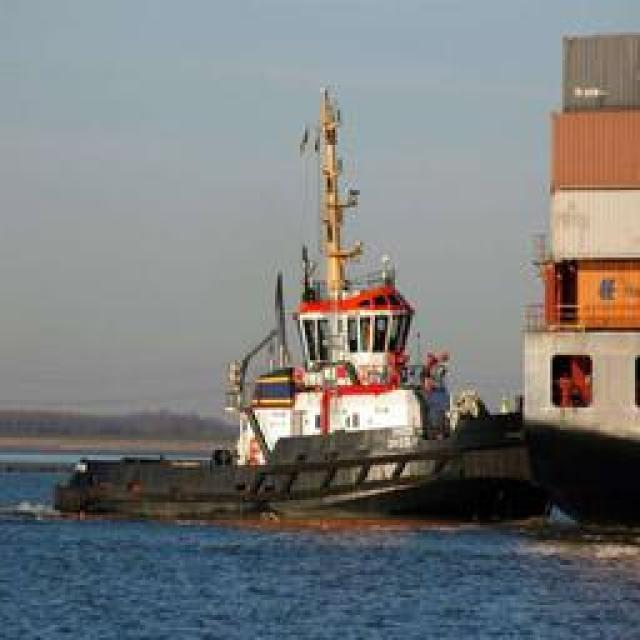CIV_Ship: (236, 85, 492, 498)
